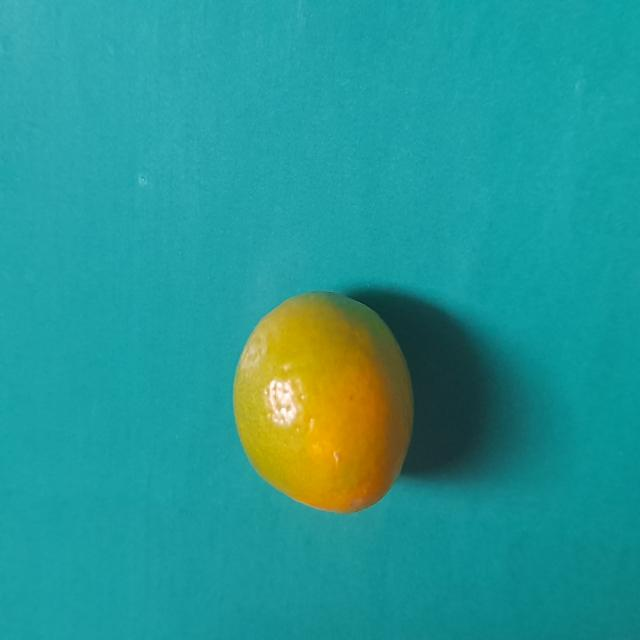greening: (230, 287, 420, 524)
